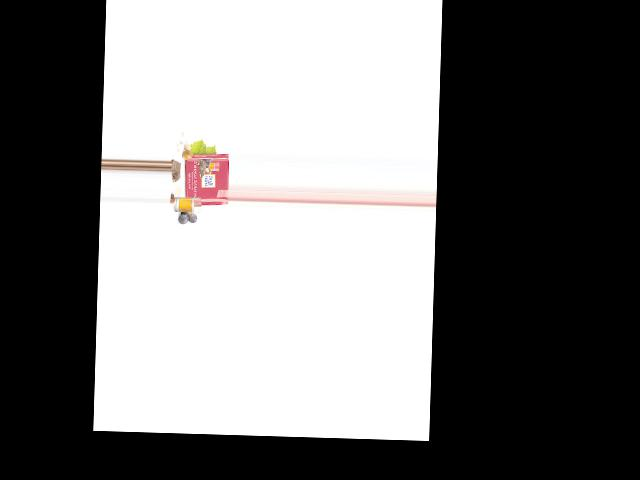chocolate: (184, 151, 229, 205)
